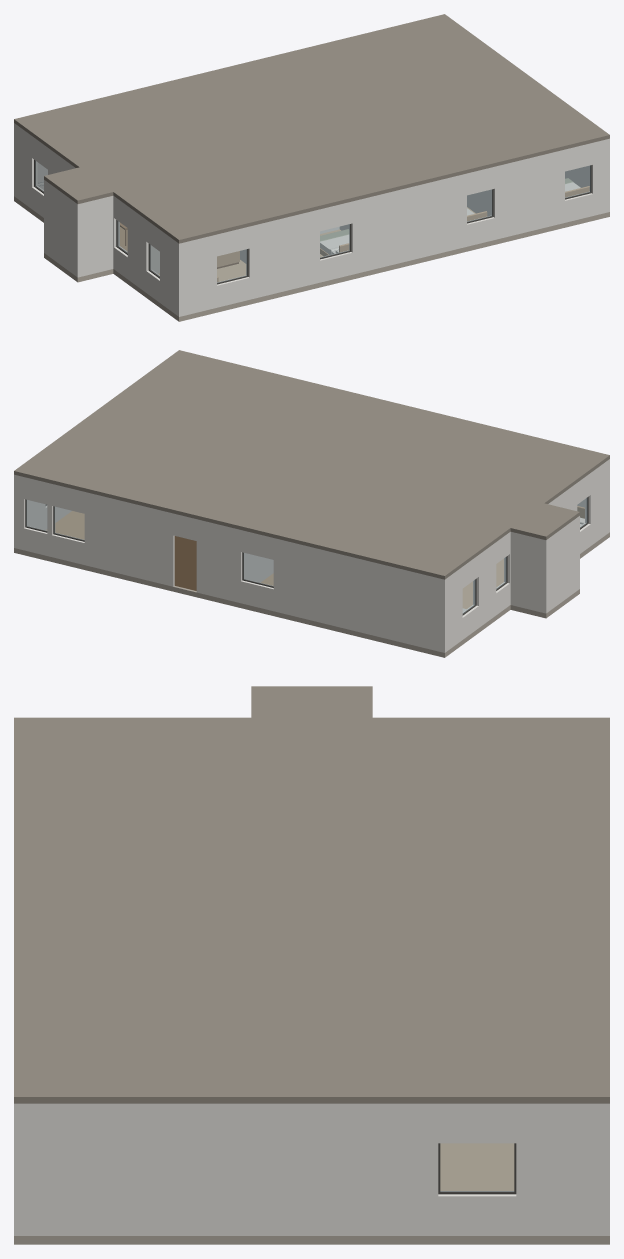
Rendered from plan.glb.
The picture shows the model from 3 angles, top to bottom: view 1: azimuth 30°, elevation 25°; view 2: azimuth 150°, elevation 25°; view 3: azimuth 270°, elevation 25°; orthographic projection. The views are drawn at different scales.
Parts seen in each view (by area): view 1: roof:roof, wall:w20_south, wall:w19_south, wall:w20_west, wall:w20_railing, wall:w_common_s, slab:slab, wall:w19_east, window:window_6:glass, window:window_7:glass, window:window_12:glass, window:window_11:glass (+3 smaller); view 2: roof:roof, wall:w20_north, wall:w19_north, wall:w20_west, wall:w20_railing, slab:slab, wall:w_common_n, door:d_exit, window:window_8:glass, window:window_5:glass, wall:w19_east, wall:w_corr_west (+4 smaller); view 3: roof:roof, wall:w19_east, slab:slab, window:window_10:glass, floor:r19_living, wall:w19_north.
Part boxes in pixels (left/top/right/bottom): roof:roof: left=14, top=14, right=609, bottom=243; wall:w20_south: left=185, top=191, right=394, bottom=315; wall:w19_south: left=456, top=140, right=603, bottom=249; wall:w20_west: left=17, top=125, right=184, bottom=316; wall:w20_railing: left=44, top=180, right=113, bottom=277; wall:w_common_s: left=395, top=177, right=449, bottom=264; slab:slab: left=14, top=196, right=609, bottom=321; wall:w19_east: left=565, top=138, right=609, bottom=213; window:window_6:glass: left=217, top=249, right=246, bottom=282; window:window_7:glass: left=320, top=224, right=349, bottom=257; window:window_12:glass: left=565, top=165, right=590, bottom=197; window:window_11:glass: left=467, top=189, right=491, bottom=221; roof:roof: left=14, top=350, right=609, bottom=579; wall:w20_north: left=229, top=527, right=448, bottom=652; wall:w19_north: left=14, top=474, right=167, bottom=585; wall:w20_west: left=448, top=459, right=609, bottom=649; wall:w20_railing: left=510, top=516, right=579, bottom=613; slab:slab: left=14, top=532, right=609, bottom=657; wall:w_common_n: left=173, top=513, right=228, bottom=600; door:d_exit: left=174, top=536, right=196, bottom=590; window:window_8:glass: left=54, top=507, right=84, bottom=540; window:window_5:glass: left=244, top=553, right=273, bottom=586; wall:w19_east: left=27, top=500, right=71, bottom=530; wall:w_corr_west: left=244, top=553, right=273, bottom=582; roof:roof: left=14, top=686, right=609, bottom=1103; wall:w19_east: left=14, top=1103, right=597, bottom=1235; slab:slab: left=14, top=1236, right=609, bottom=1244; window:window_10:glass: left=440, top=1143, right=513, bottom=1191; floor:r19_living: left=440, top=1143, right=514, bottom=1190; wall:w19_north: left=598, top=1103, right=609, bottom=1235.
Size of the model in its own units: 19.98 by 3.35 by 12.25.
